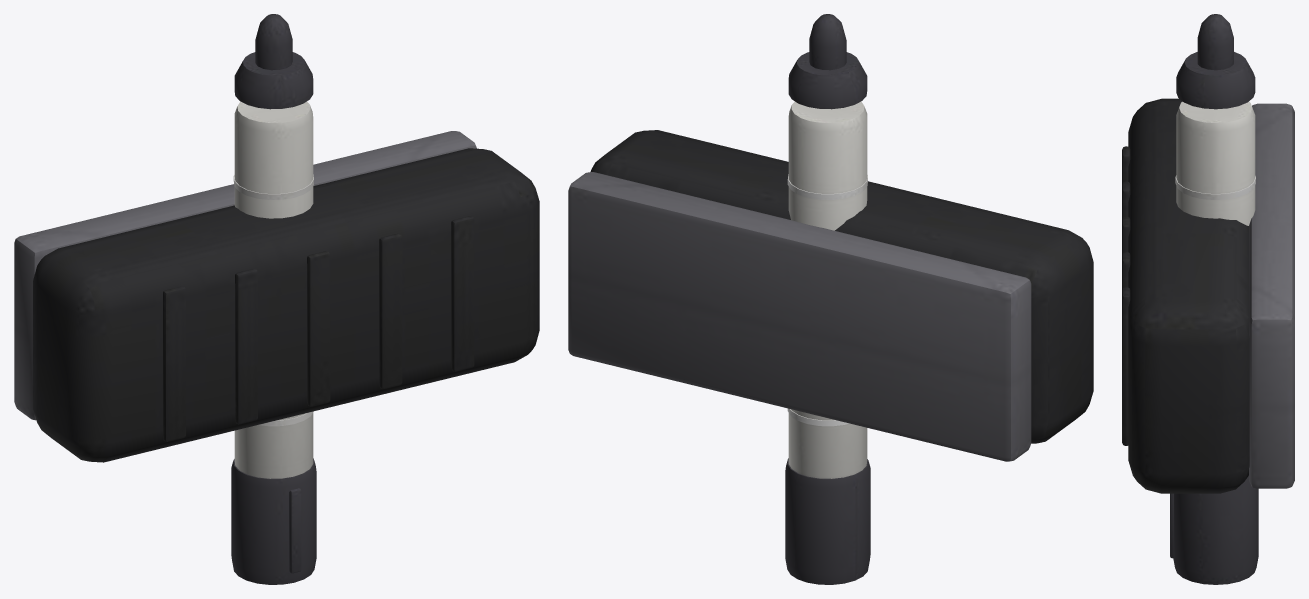
File: whiteboard-tools.glb
3 renders of one model, left to right at view 1: azimuth 30°, elevation 25°; view 2: azimuth 150°, elevation 25°; view 3: azimuth 270°, elevation 25°, orthographic.
Parts seen in each view (by area): view 1: Eraser_Mesh, Alyx_Marker_Black_Mesh; view 2: Eraser_Mesh, Alyx_Marker_Black_Mesh; view 3: Eraser_Mesh, Alyx_Marker_Black_Mesh.
Boxes of the visible parts, x1,y1,x2,y2 form: Eraser_Mesh: (14,131,539,462); Alyx_Marker_Black_Mesh: (231,14,316,584); Eraser_Mesh: (568,130,1093,461); Alyx_Marker_Black_Mesh: (785,14,870,584); Eraser_Mesh: (1122,98,1294,493); Alyx_Marker_Black_Mesh: (1170,14,1258,584).
Bounding box in the file's own units: 0.13 × 0.1465 × 0.0415.
4 materials, 4 textured.
